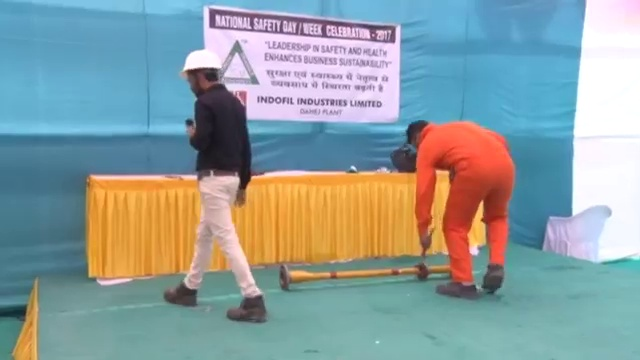helmet: (178, 50, 224, 78)
helmet_off: (404, 118, 428, 147)
helmet_on: (176, 50, 223, 97)
person: (165, 45, 269, 322), (401, 116, 518, 302)
